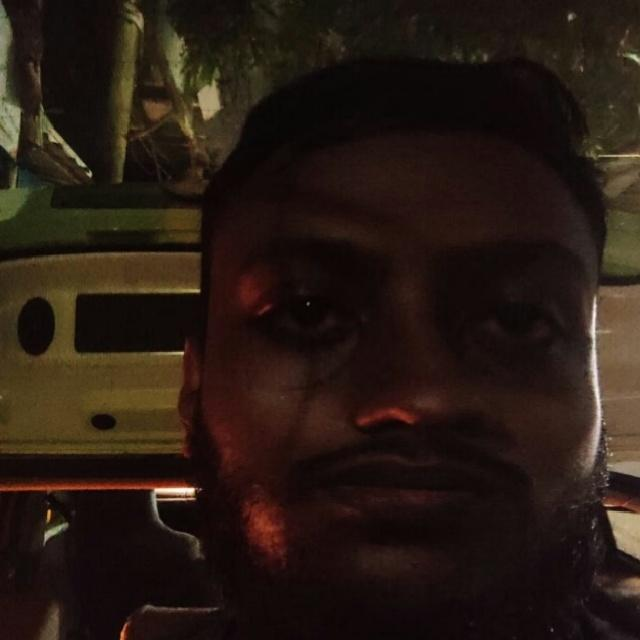Natural: (180, 80, 615, 640)
